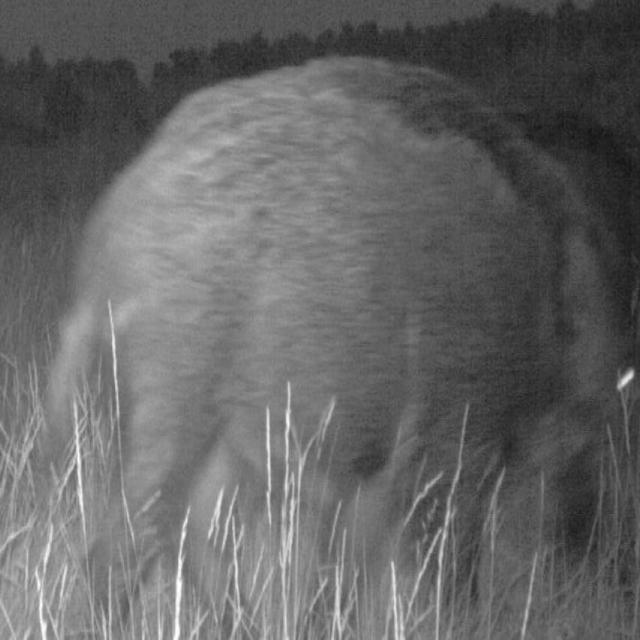pig: (66, 65, 640, 640)
